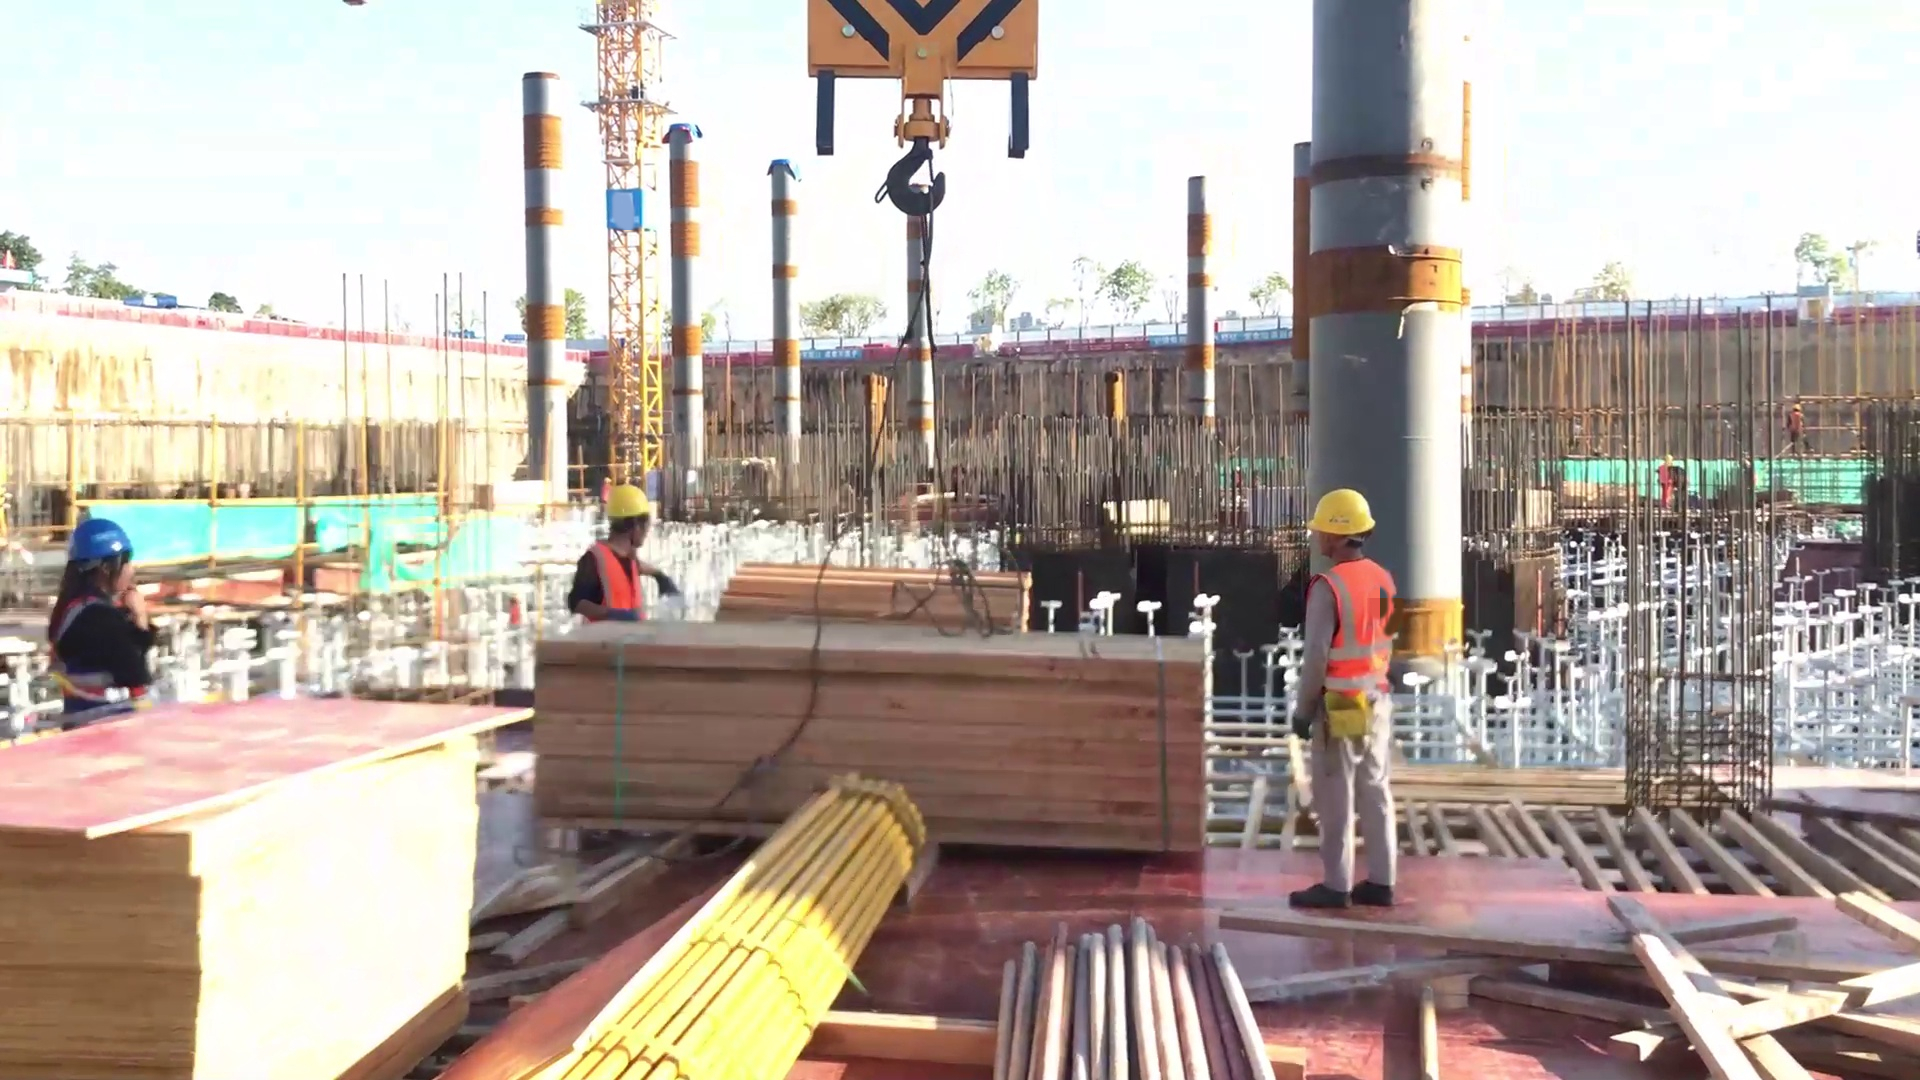board: (1, 688, 535, 1074)
helmet: (61, 506, 162, 576), (1302, 485, 1375, 535), (590, 483, 661, 519)
hook: (794, 3, 1058, 165)
person: (1294, 476, 1439, 914), (42, 510, 170, 724), (578, 480, 667, 639)
rebar: (969, 899, 1272, 1080)
vest: (52, 579, 166, 718), (1300, 550, 1400, 691), (575, 534, 652, 624)
wood: (497, 500, 1265, 904)
